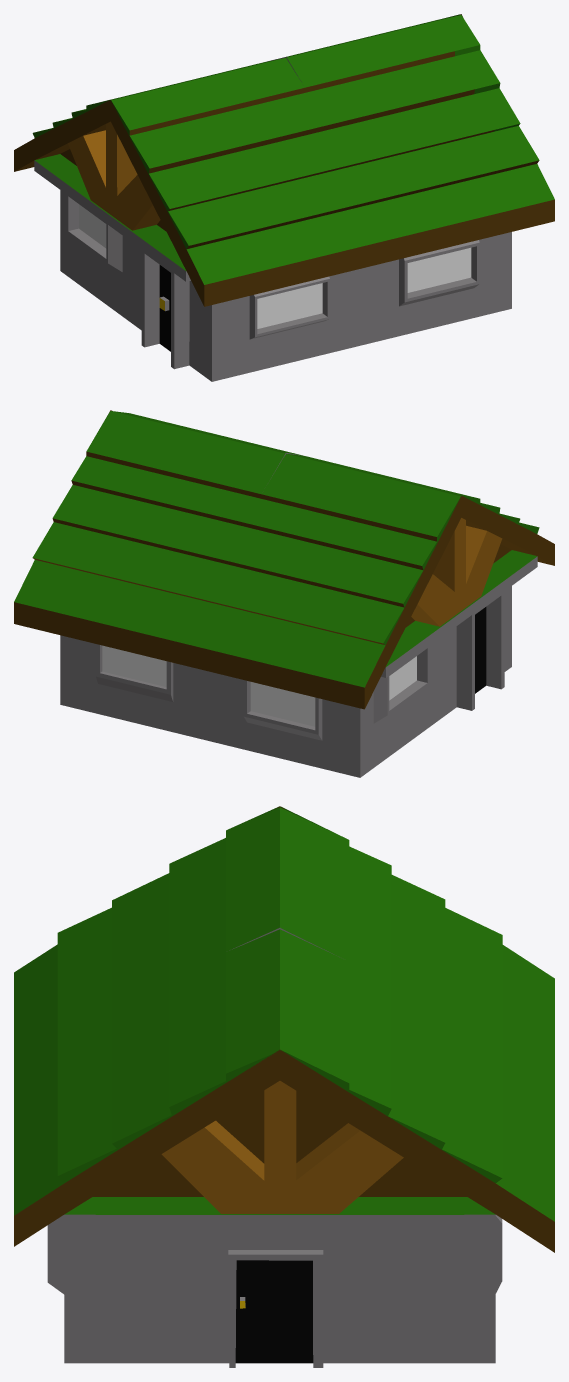
Rendered from huis2.fbx.
3 renders of one model, top to bottom at view 1: azimuth 30°, elevation 25°; view 2: azimuth 150°, elevation 25°; view 3: azimuth 270°, elevation 25°, orthographic. The views are drawn at different scales.
Parts seen in each view (by area): view 1: Cube; view 2: Cube; view 3: Cube.
Boxes of the visible parts, x1,y1,x2,y2 form: Cube: (14,14,554,381); Cube: (14,410,554,777); Cube: (14,806,554,1367).
Size of the model in its own units: 2097 by 1328 by 1965.
